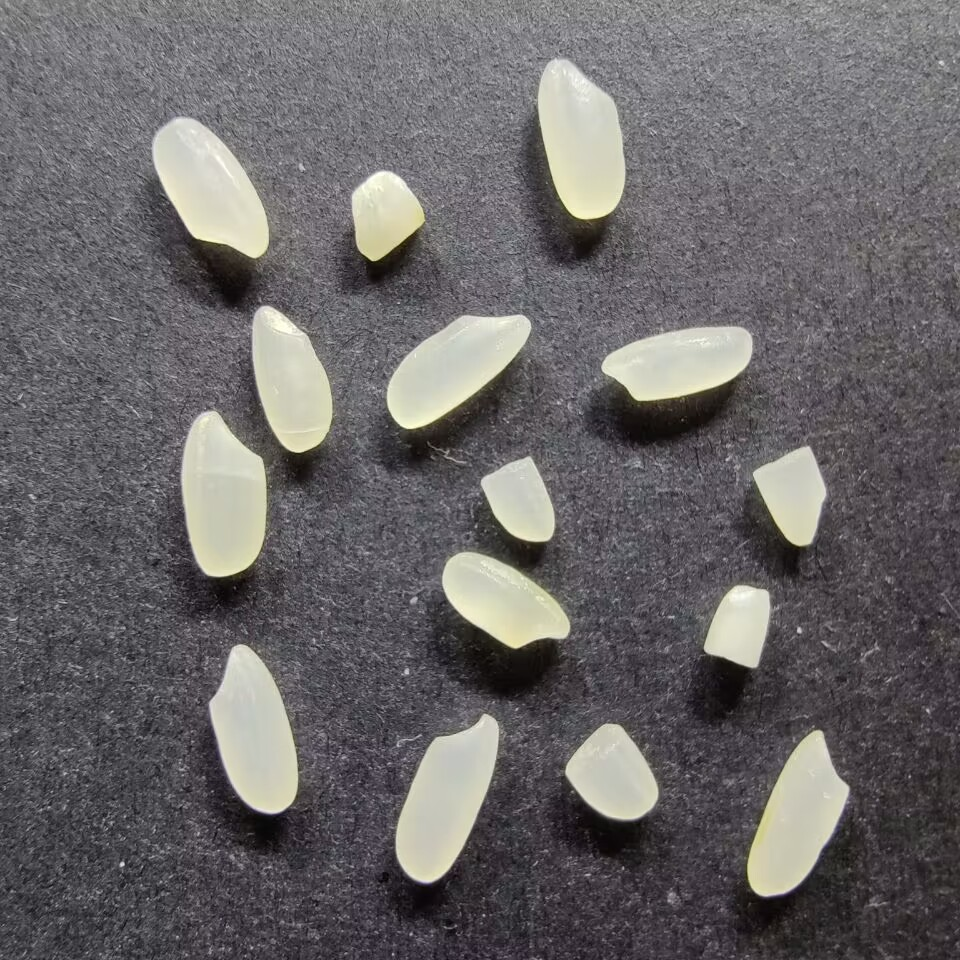broken: (562, 718, 661, 823), (748, 444, 831, 548), (348, 167, 427, 264), (478, 456, 556, 543), (699, 584, 773, 669)
rice: (393, 711, 499, 887), (747, 727, 852, 900), (385, 310, 531, 431), (151, 115, 270, 259), (206, 641, 301, 815), (536, 54, 628, 221), (180, 408, 269, 579), (440, 550, 571, 651), (250, 302, 333, 454), (598, 324, 755, 402)
